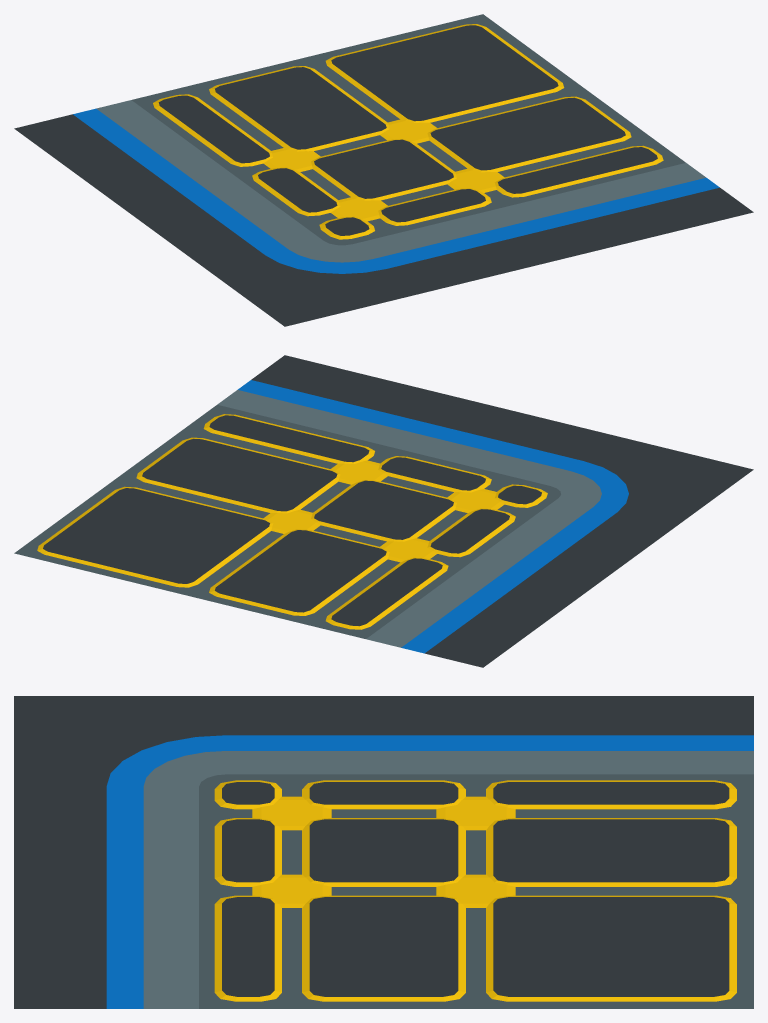
Rendered from Floor_type_C_017.glb.
3 renders of one model, top to bottom at view 1: azimuth 30°, elevation 25°; view 2: azimuth 150°, elevation 25°; view 3: azimuth 270°, elevation 25°, orthographic. The views are drawn at different scales.
Parts seen in each view (by area): view 1: Floor_type_C_017; view 2: Floor_type_C_017; view 3: Floor_type_C_017.
Part boxes in pixels (x1=…): Floor_type_C_017: x1=14, y1=14, x2=753, y2=326; Floor_type_C_017: x1=14, y1=355, x2=753, y2=667; Floor_type_C_017: x1=14, y1=696, x2=753, y2=1008.
Size of the model in its own units: 4 by 0.0134 by 4.
Materials: 2 (2 with a texture image).
